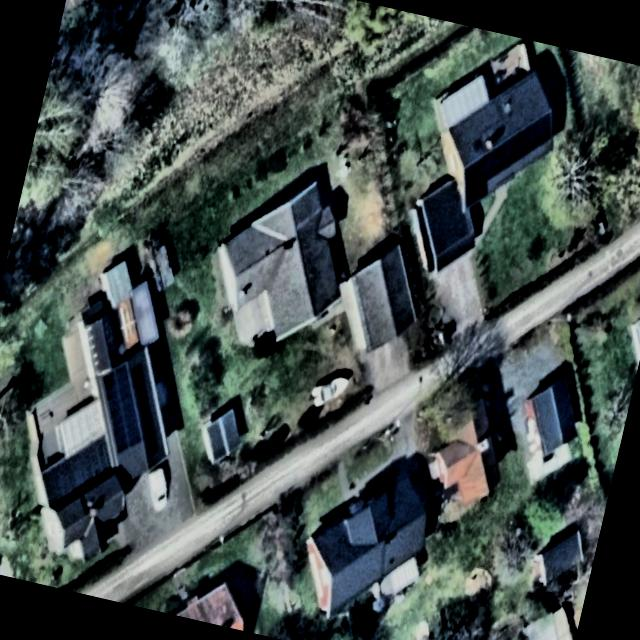roof_pv: (92, 400, 149, 460), (456, 141, 499, 213), (522, 103, 559, 163), (100, 359, 144, 405), (494, 122, 528, 179)
